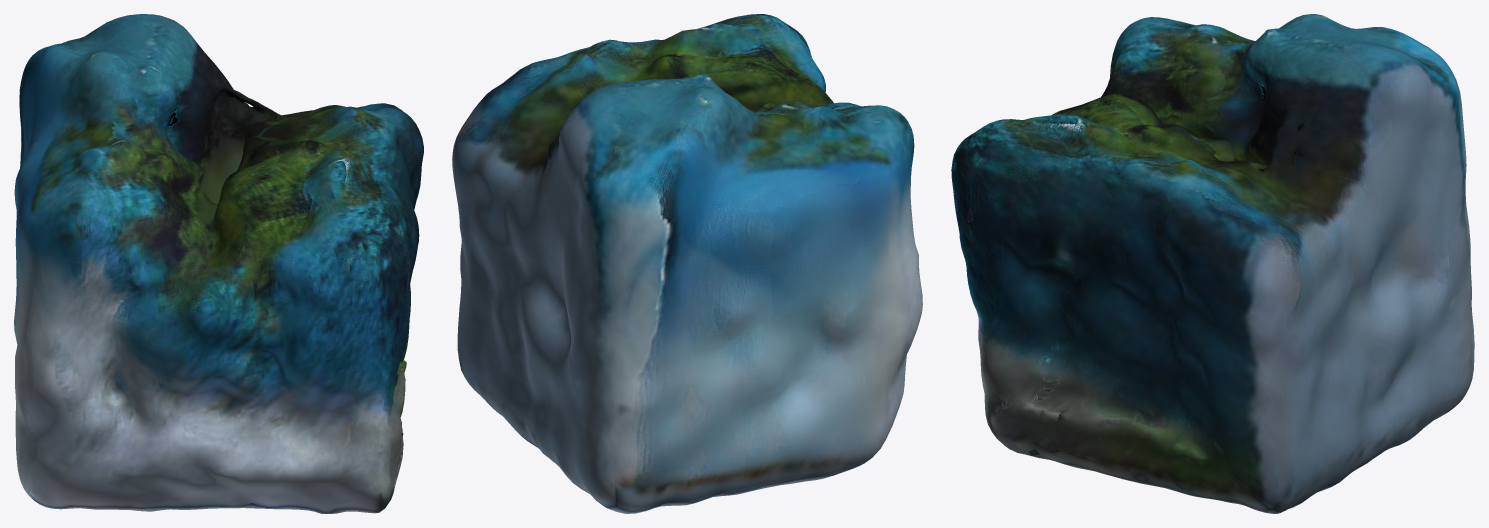
The model's file is 018bade1-865a-735a-821d-2d33346c217c.glb.
3 views of the same model, side by side, from view 1: azimuth 30°, elevation 25°; view 2: azimuth 150°, elevation 25°; view 3: azimuth 270°, elevation 25° (orthographic). The views are drawn at different scales.
Parts seen in each view (by area): view 1: model.obj; view 2: model.obj; view 3: model.obj.
Part boxes in pixels (x1,y1,x2,y2): model.obj: (14, 14, 423, 513); model.obj: (452, 14, 922, 513); model.obj: (951, 14, 1474, 513).
Bounding box in the file's own units: 0.9598 × 0.8616 × 1.03.
1 material, 1 textured.
